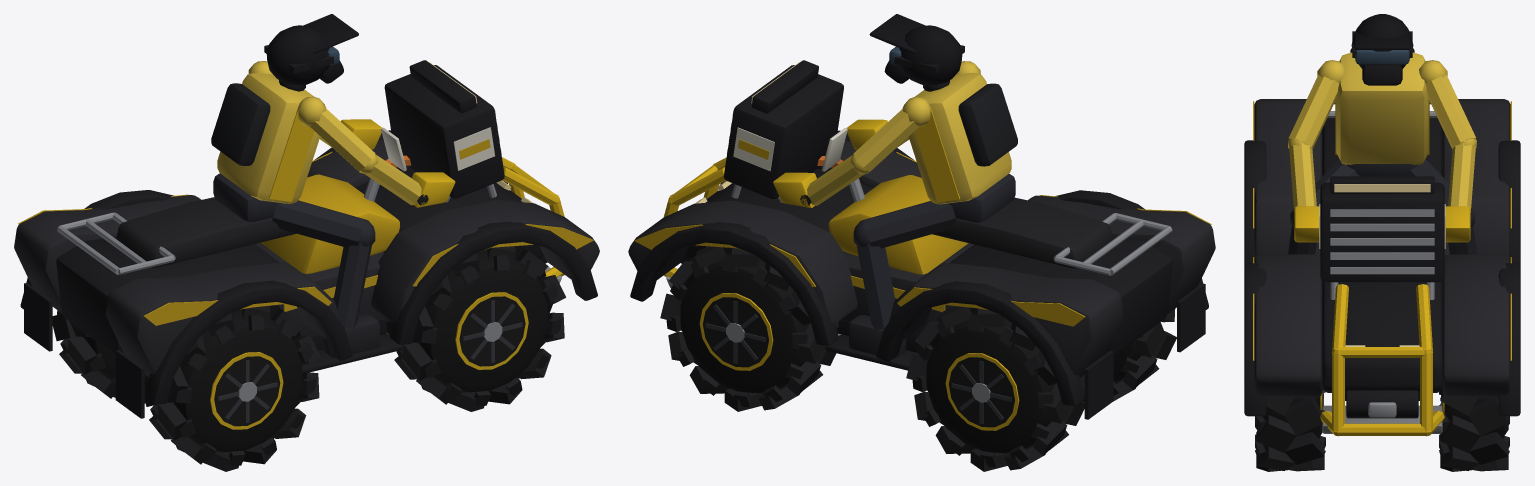
Rendered from atv.glb.
The picture shows the model from 3 angles, left to right: view 1: azimuth 30°, elevation 25°; view 2: azimuth 150°, elevation 25°; view 3: azimuth 270°, elevation 25°; orthographic projection. The views are drawn at different scales.
Parts seen in each view (by area): view 1: Body, Rider, Wheel_RR, Wheel_FR, Wheel_RL; view 2: Body, Rider, Wheel_RL, Wheel_FL, Wheel_RR; view 3: Body, Rider, Wheel_FL, Wheel_FR.
Part boxes in pixels (left/top/right/bottom): Body: left=14, top=60, right=599, bottom=418; Rider: left=211, top=14, right=421, bottom=357; Wheel_RR: left=144, top=305, right=320, bottom=471; Wheel_FR: left=386, top=245, right=565, bottom=411; Wheel_RL: left=52, top=310, right=146, bottom=403; Body: left=628, top=60, right=1215, bottom=419; Rider: left=807, top=14, right=1017, bottom=358; Wheel_RL: left=906, top=306, right=1084, bottom=471; Wheel_FL: left=660, top=246, right=838, bottom=411; Wheel_RR: left=1082, top=309, right=1176, bottom=401; Body: left=1244, top=99, right=1520, bottom=436; Rider: left=1288, top=14, right=1476, bottom=254; Wheel_FL: left=1439, top=387, right=1509, bottom=471; Wheel_FR: left=1255, top=387, right=1325, bottom=471.
Size of what is drawn, in the model's own units: 2.84 by 2.09 by 1.38.
